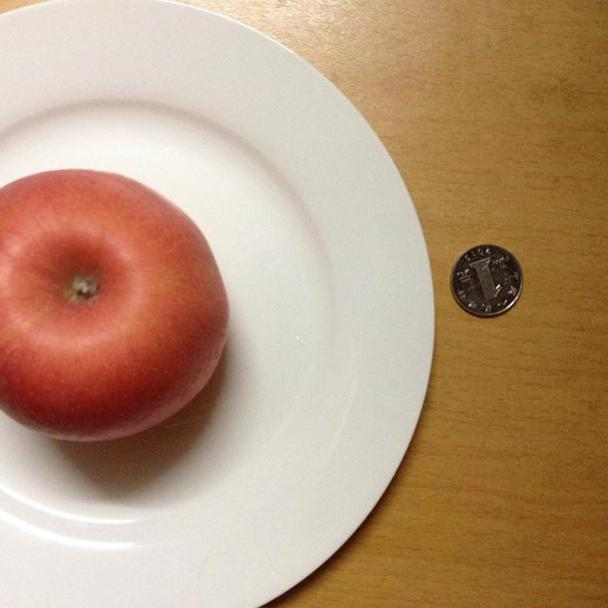apple: (1, 168, 229, 443)
